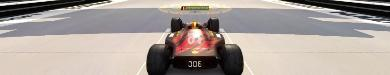Car: (145, 16, 243, 74)
Solid White and black: (180, 5, 209, 10)
